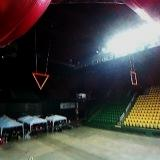Orange_Circle_GShape: (131, 71, 138, 86)
Orange_Triangle_Gshape: (32, 72, 50, 90)
